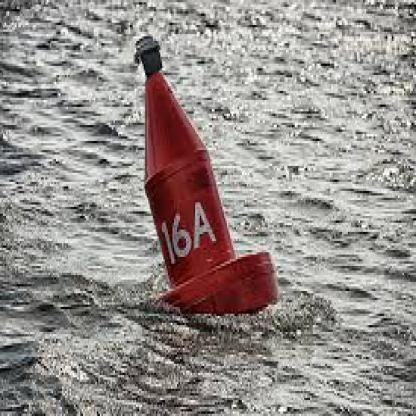buoy: (119, 20, 289, 328)
